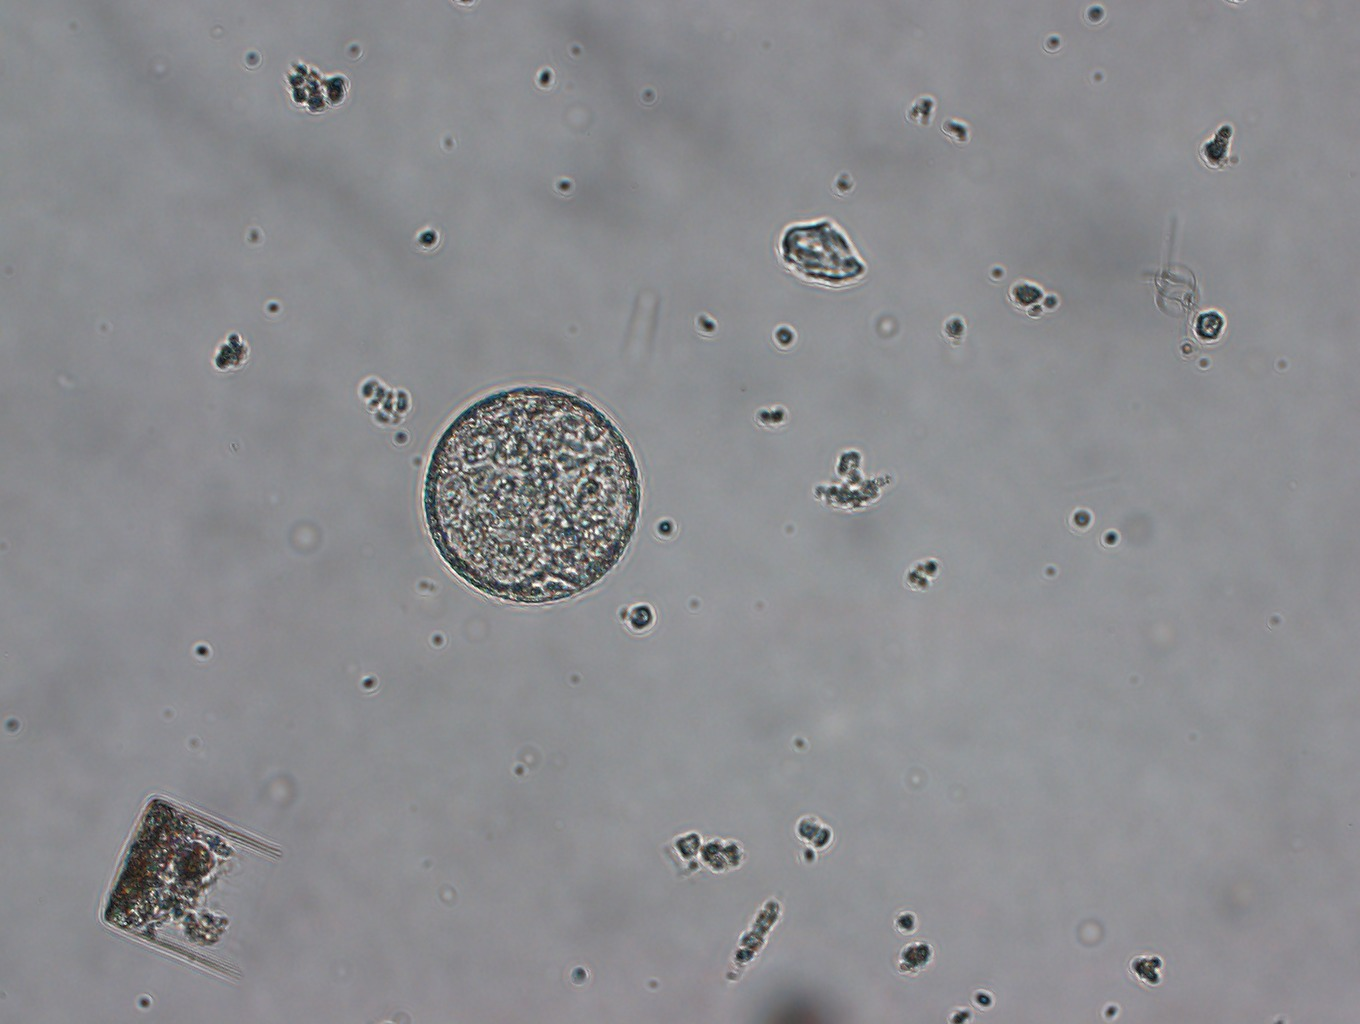coscinodiscus: (418, 374, 646, 609)
